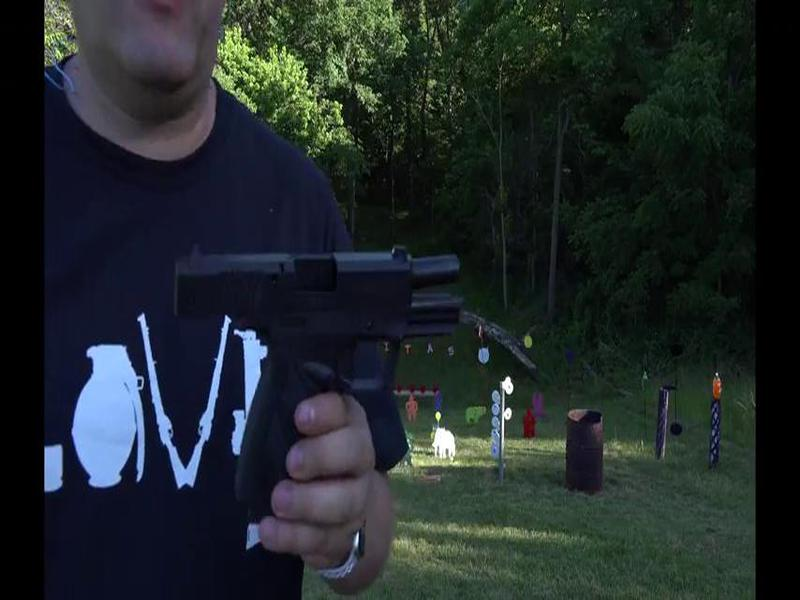Pistola: (159, 225, 480, 509)
